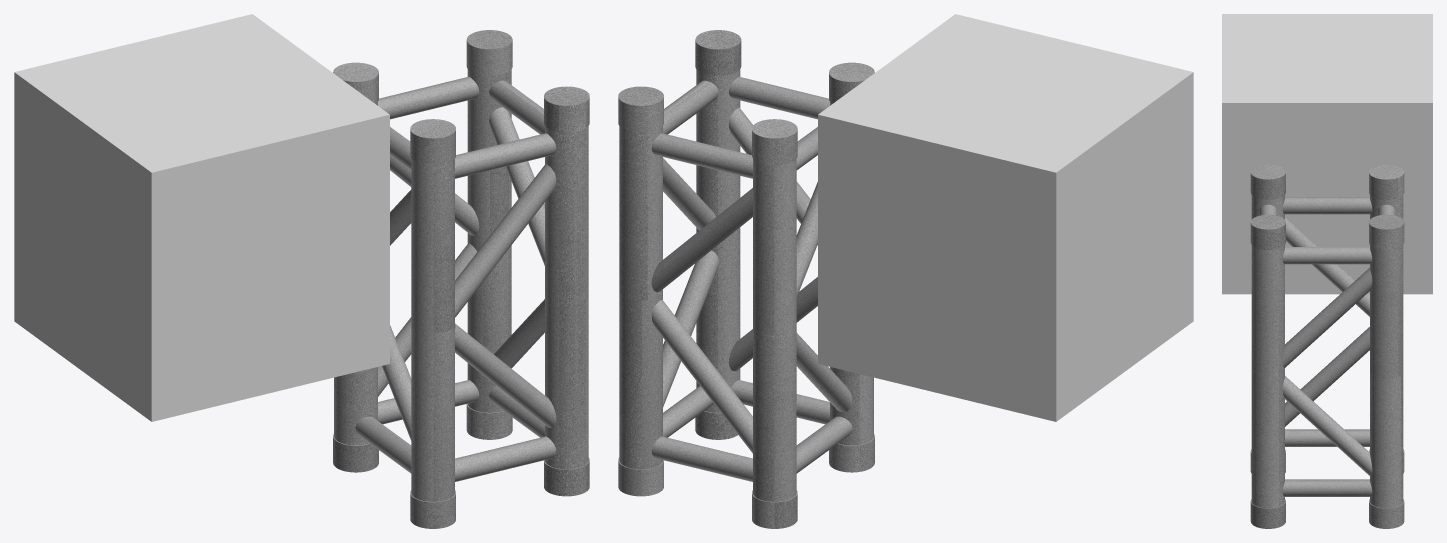
File: Square_box_truss_DONT_USE.glb
3 views of the same model, side by side, from view 1: azimuth 30°, elevation 25°; view 2: azimuth 150°, elevation 25°; view 3: azimuth 270°, elevation 25° (orthographic). The views are drawn at different scales.
Parts seen in each view (by area): view 1: Cube, Cylinder.012, Cylinder.014, Cylinder.015, Cylinder.013, Cylinder.018, Cylinder.006, Cylinder.008, Cylinder.021, Cylinder.022, Cylinder.017, Cylinder.007 (+8 smaller); view 2: Cube, Cylinder.013, Cylinder.015, Cylinder.014, Cylinder.012, Cylinder.004, Cylinder.016, Cylinder.005, Cylinder.009, Cylinder.022, Cylinder.021, Cylinder.007 (+8 smaller); view 3: Cube, Cylinder.015, Cylinder.014, Cylinder.005, Cylinder.017, Cylinder.007, Cylinder.012, Cylinder.013, Cylinder.023, Cylinder.024, Cylinder.011, Cylinder.019 (+1 smaller).
Part boxes in pixels (box(x1,y1,x2,y2)): Cube: box(14, 14, 389, 421); Cylinder.012: box(410, 119, 455, 528); Cylinder.014: box(544, 86, 589, 496); Cylinder.015: box(466, 30, 512, 439); Cylinder.013: box(333, 62, 378, 472); Cylinder.018: box(455, 164, 556, 317); Cylinder.006: box(455, 323, 556, 427); Cylinder.008: box(455, 436, 556, 481); Cylinder.021: box(455, 133, 556, 178); Cylinder.022: box(378, 76, 479, 119); Cylinder.017: box(489, 107, 544, 265); Cylinder.007: box(382, 325, 411, 440); Cube: box(818, 14, 1193, 421); Cylinder.013: box(752, 119, 797, 528); Cylinder.015: box(618, 86, 663, 496); Cylinder.014: box(695, 30, 741, 439); Cylinder.012: box(829, 62, 874, 472); Cylinder.004: box(651, 299, 752, 453); Cylinder.016: box(651, 188, 752, 292); Cylinder.005: box(663, 250, 718, 406); Cylinder.009: box(651, 436, 752, 481); Cylinder.022: box(651, 133, 752, 178); Cylinder.021: box(728, 76, 829, 119); Cylinder.007: box(796, 333, 852, 412); Cube: box(1222, 14, 1432, 294); Cylinder.015: box(1369, 214, 1404, 528); Cylinder.014: box(1250, 214, 1285, 528); Cylinder.005: box(1282, 376, 1372, 476); Cylinder.017: box(1282, 267, 1372, 367); Cylinder.007: box(1285, 327, 1369, 426); Cylinder.012: box(1250, 164, 1285, 473); Cylinder.013: box(1369, 164, 1404, 473); Cylinder.023: box(1282, 197, 1372, 214); Cylinder.024: box(1282, 247, 1372, 264); Cylinder.011: box(1282, 479, 1372, 496); Cylinder.019: box(1285, 217, 1369, 316).
Size of the model in its own units: 13.92 by 12.72 by 7.13.
1 material, 1 textured.
